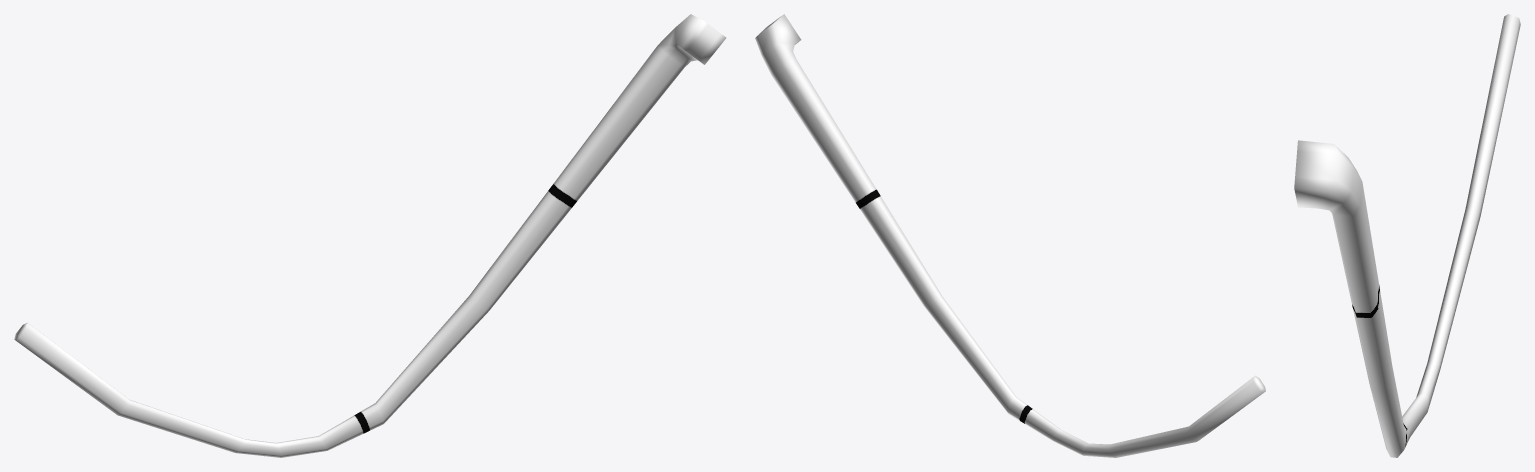
The model's file is Ranke_v4.fbx.
3 renders of one model, left to right at view 1: azimuth 30°, elevation 25°; view 2: azimuth 150°, elevation 25°; view 3: azimuth 270°, elevation 25°, orthographic. The views are drawn at different scales.
Visible parts, largest first — view 1: Ranke_v4; view 2: Ranke_v4; view 3: Ranke_v4.
Part boxes in pixels (<box>): Ranke_v4: <box>14,14,726,457</box>; Ranke_v4: <box>755,14,1265,457</box>; Ranke_v4: <box>1294,14,1520,457</box>.
Size of the model in its own units: 1508 by 847 by 316.
